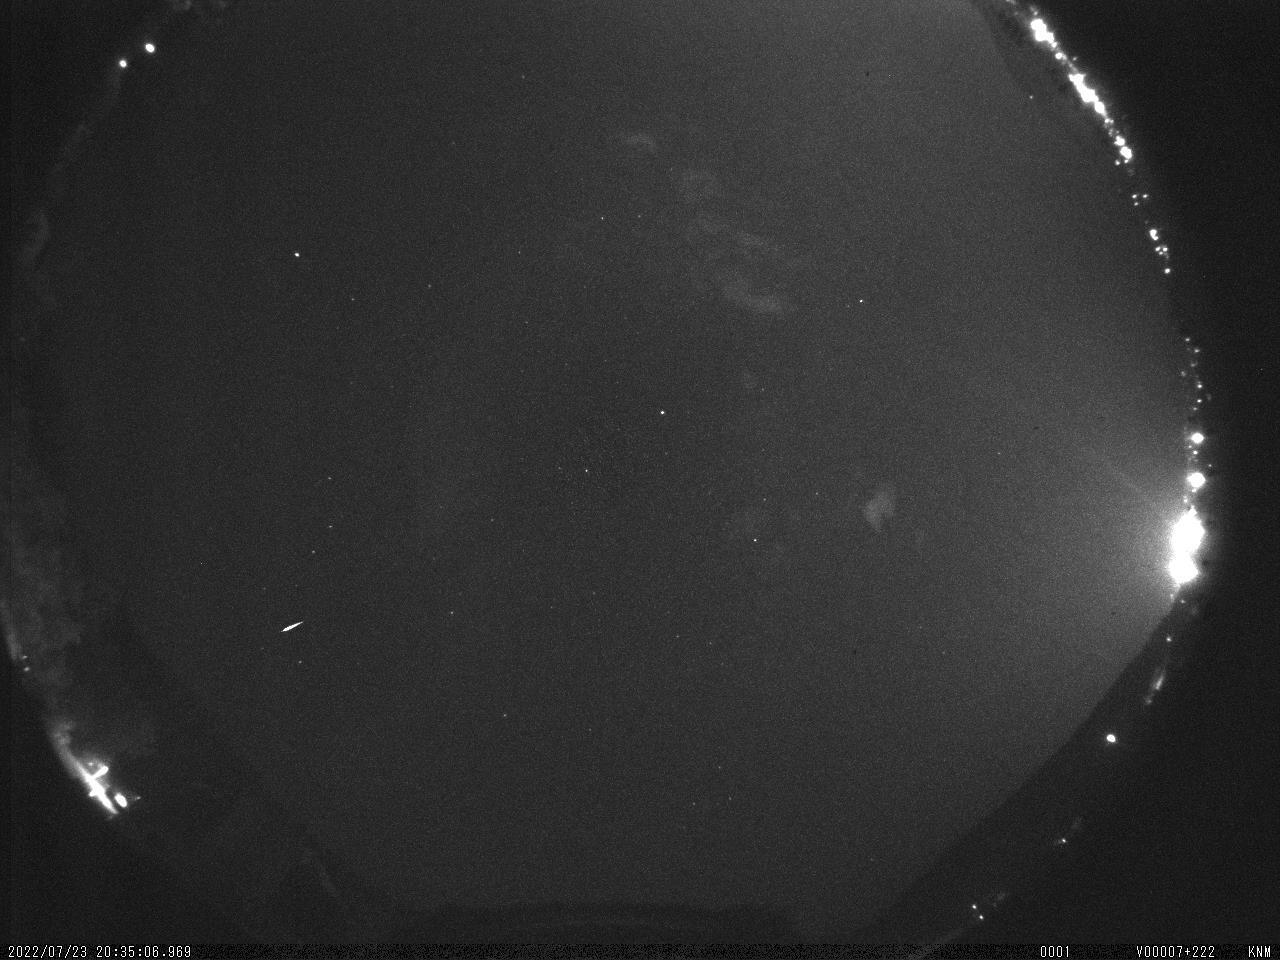Meteor: (278, 617, 307, 635)
